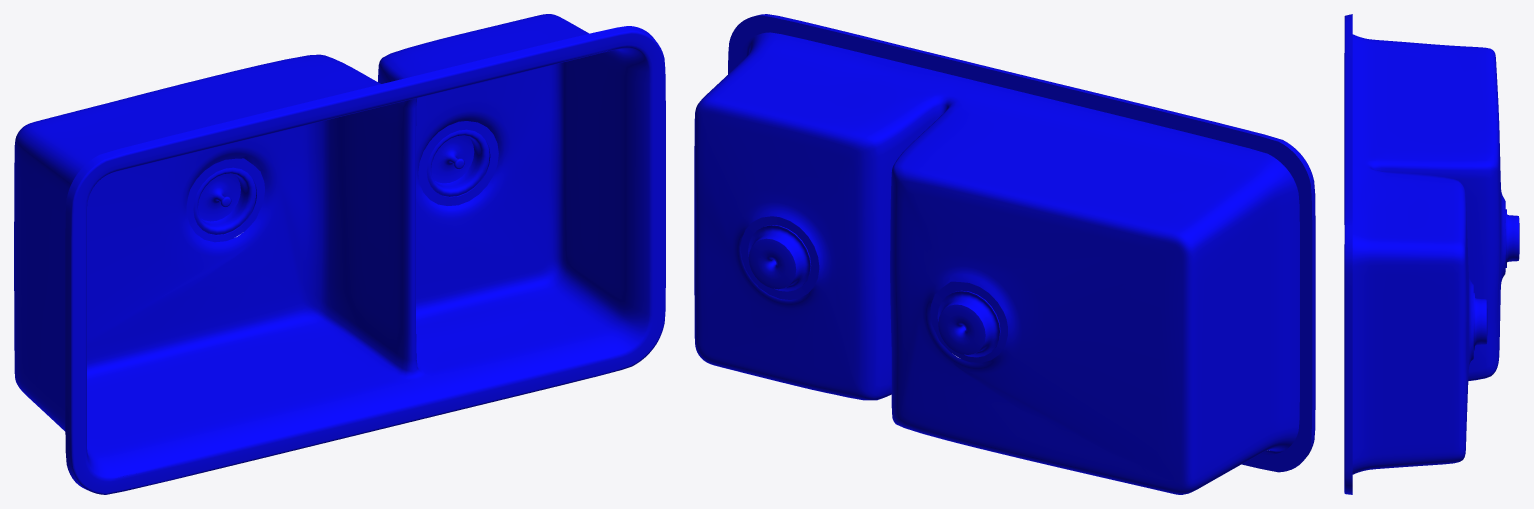
The model's file is Franke_Sink-KBX12045.fbx.
3 renders of one model, left to right at view 1: azimuth 30°, elevation 25°; view 2: azimuth 150°, elevation 25°; view 3: azimuth 270°, elevation 25°, orthographic. The views are drawn at different scales.
Visible parts, largest first — view 1: Franke_Sink-KBX12045; view 2: Franke_Sink-KBX12045; view 3: Franke_Sink-KBX12045.
Part boxes in pixels (x1,y1,x2,y2): Franke_Sink-KBX12045: (14, 14, 665, 494); Franke_Sink-KBX12045: (694, 14, 1315, 494); Franke_Sink-KBX12045: (1344, 14, 1519, 494).
Bounding box in the file's own units: 85.07 × 46.47 × 26.83.
